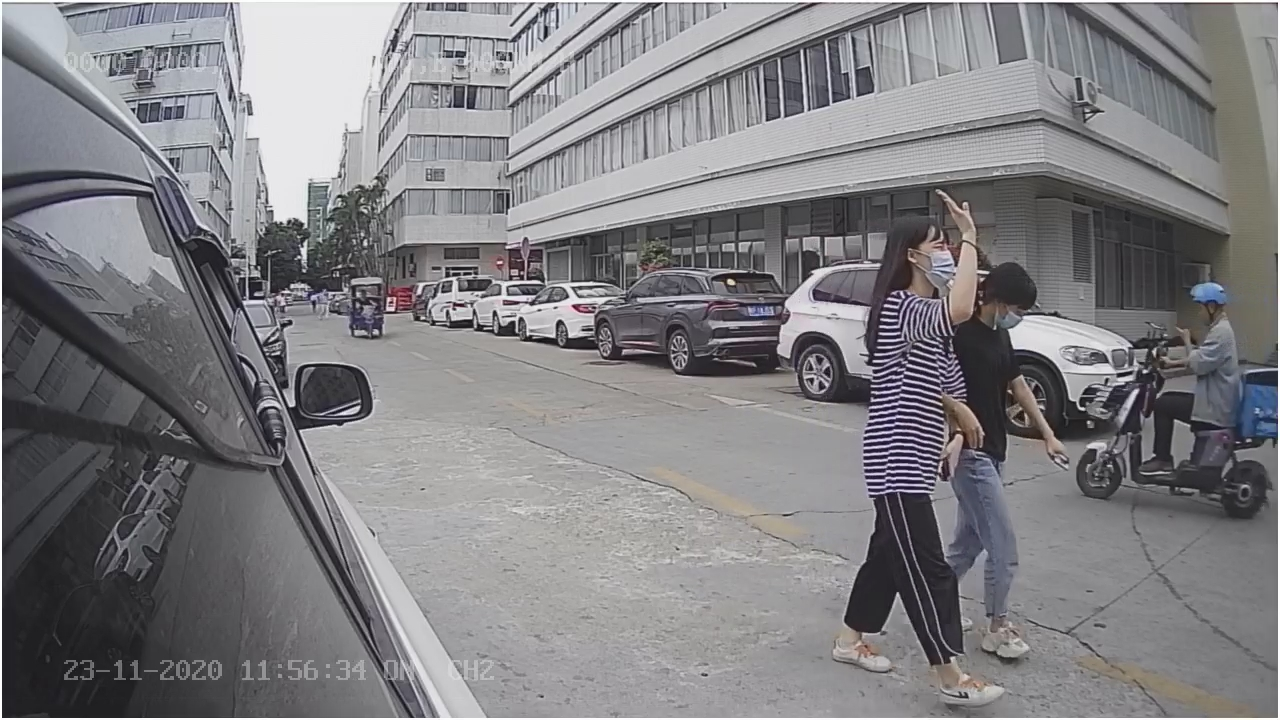person: (847, 192, 991, 705), (1177, 280, 1244, 426)
